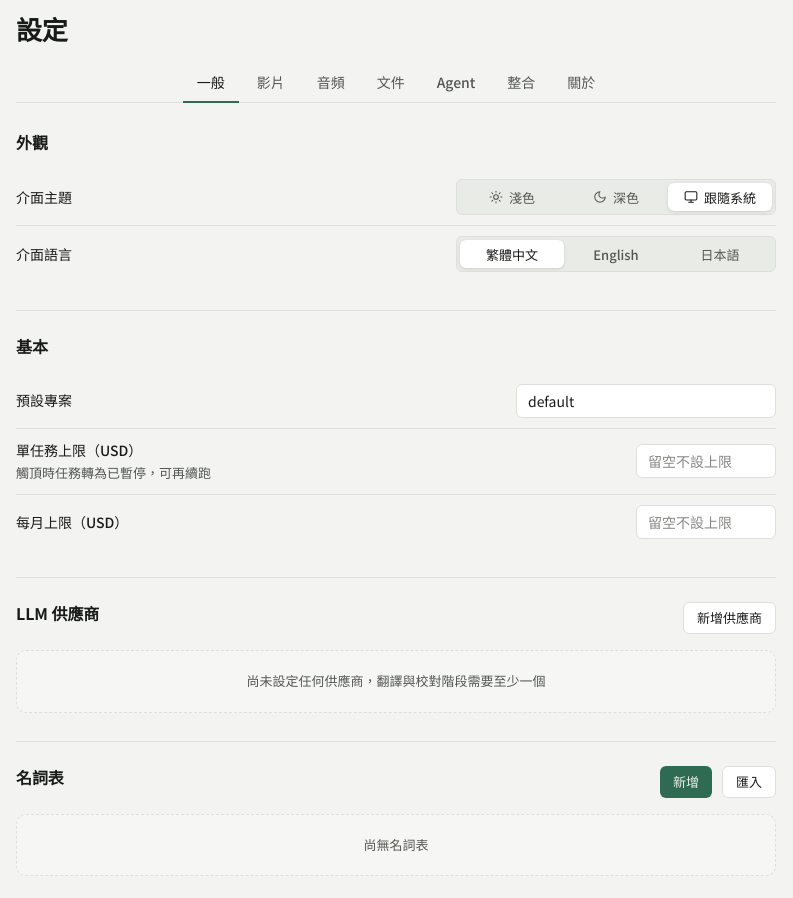
the audio tab shows both the ASR and dubbing engine sections
Check: the field labelled "預設專案" is shown, box [516, 384, 776, 418]
Click the tab "音頻". click: (331, 84)
box: [303, 66, 359, 103]
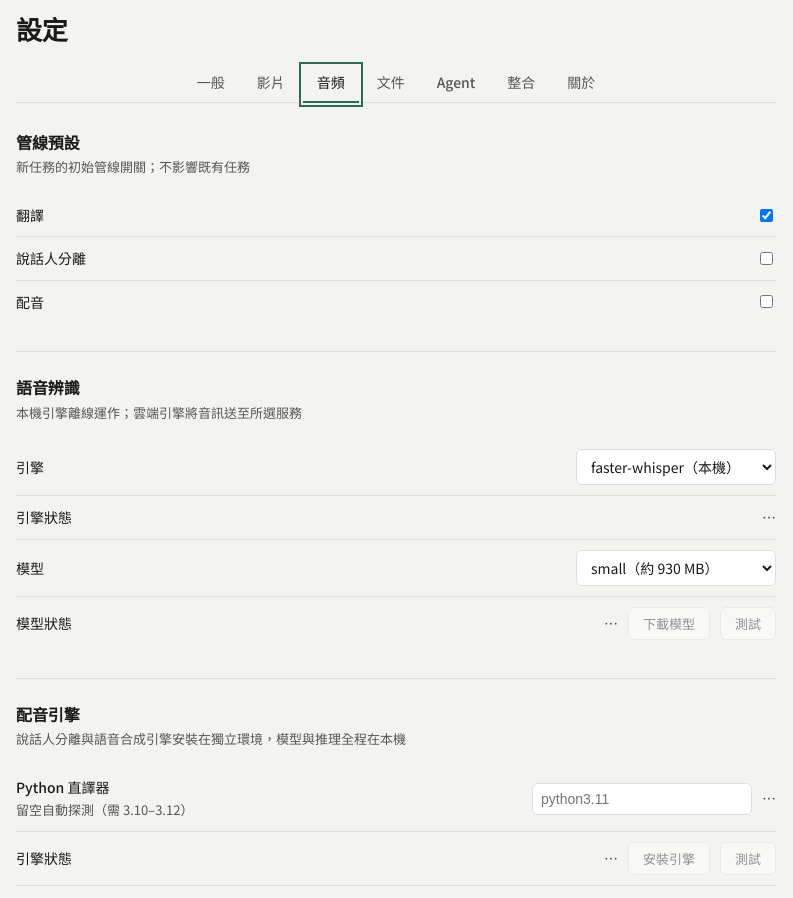
Check: the heading "語音辨識" is shown, box [16, 375, 80, 399]
Check: the heading "配音引擎" is shown, box [16, 702, 80, 726]
